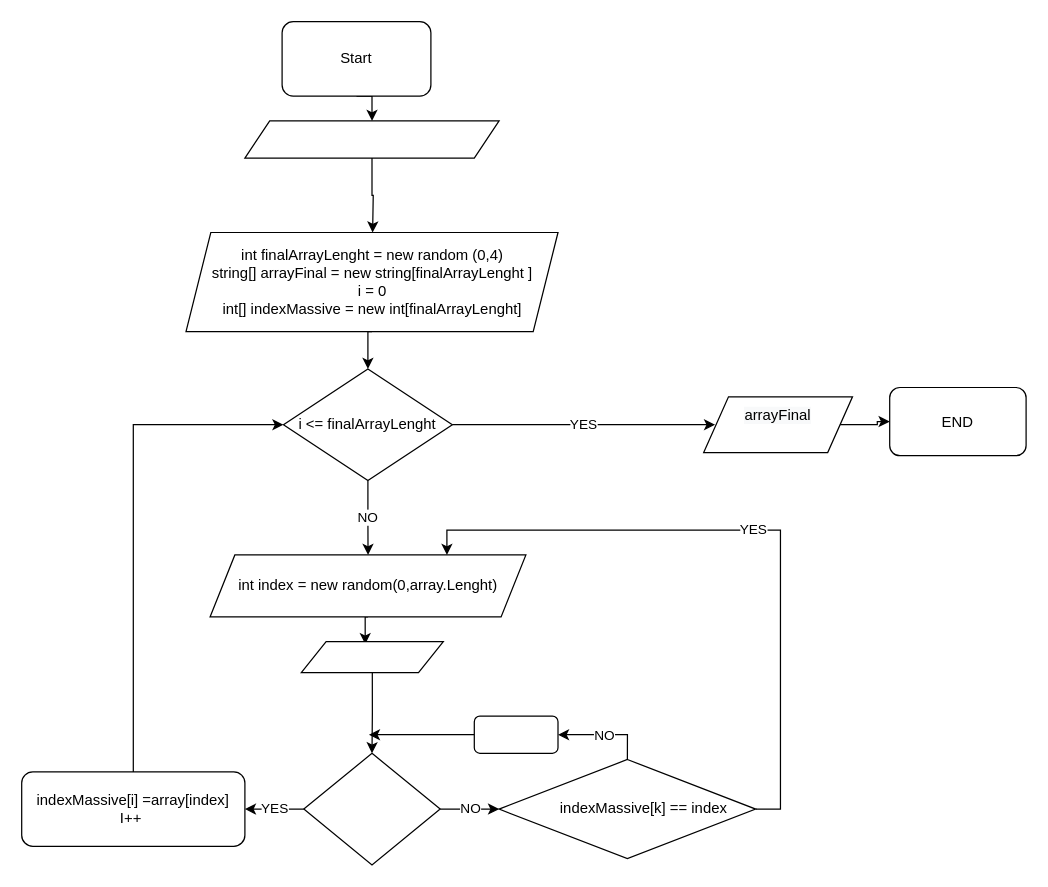
The diagram is 1048 pixels wide and 887 high, and some of its shapes have lost their labels. The shapes that lost their labels are listed below. From the top down, each one's centre as x and y in pixels, then its label:
(x=371, y=139): string[] array = "1" "2" "3" "4" "5"
(x=371, y=656): k = 0;
(x=515, y=734): k++
(x=371, y=808): k <= index.Lenght
